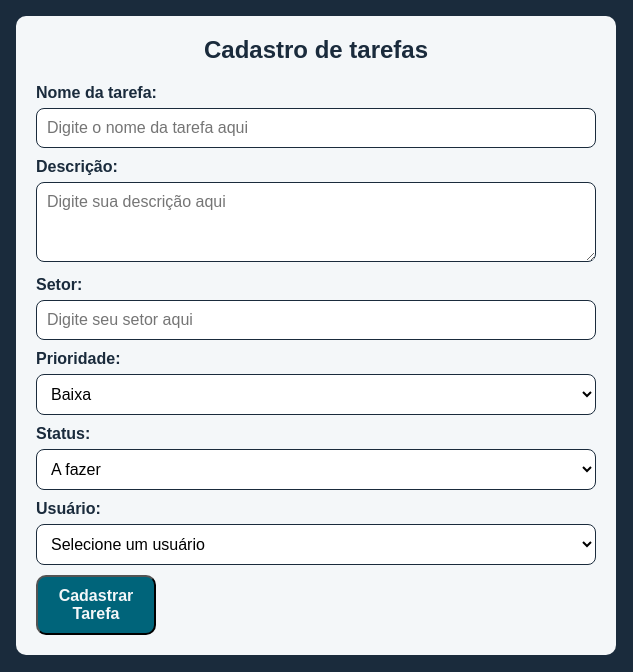
Teste do componente CadTarefa › Campo Nome - Validações Específicas › Não deve permitir números ou caracteres especiais (handleNomeChange)
Type "Tarefa #123 Com !@#$" into the field labelled "Nome da tarefa:" at (316, 128), box [36,108,596,148]
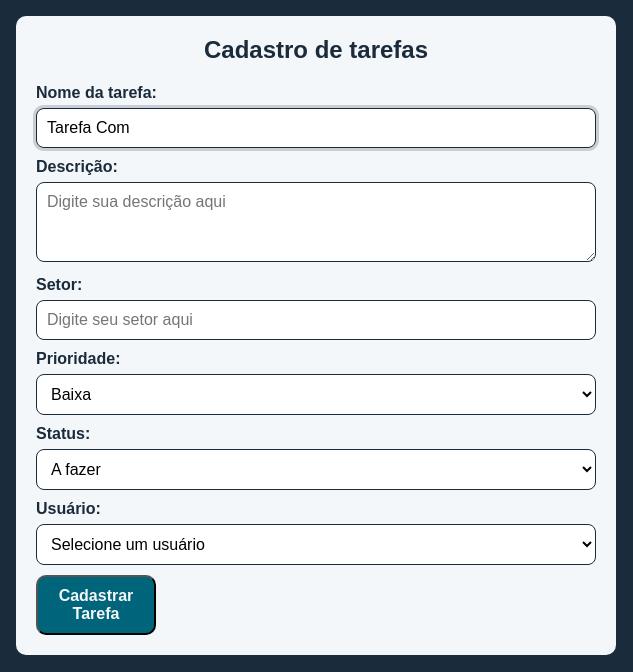
Expected: the field labelled "Nome da tarefa:" holds "Tarefa Com ", [36,108,596,148]
